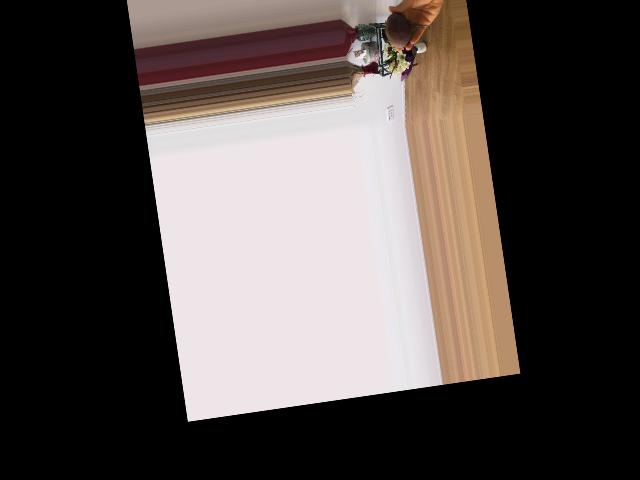beet: (379, 8, 432, 50)
